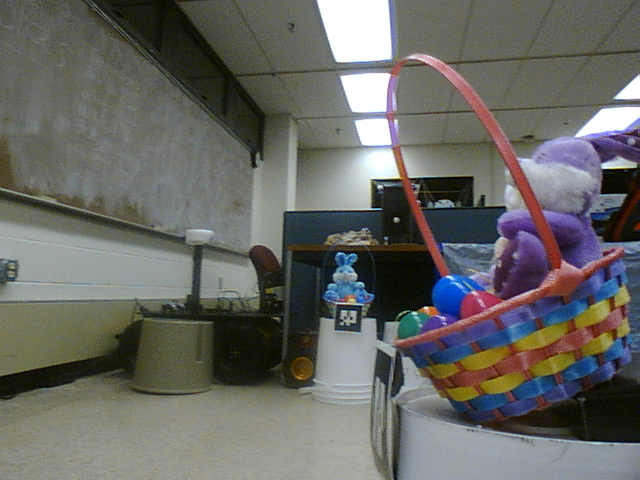bunny: (375, 53, 640, 422), (320, 233, 377, 323)
